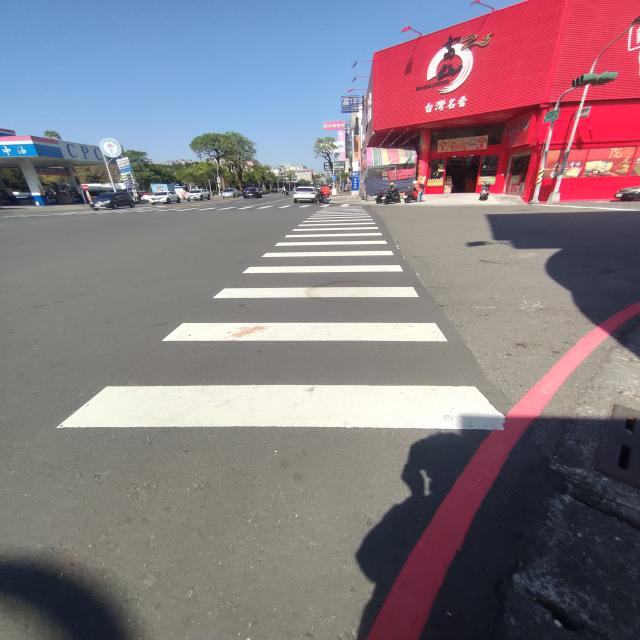zebra_crossing: (216, 96, 634, 276), (0, 114, 155, 321), (300, 0, 346, 419)
